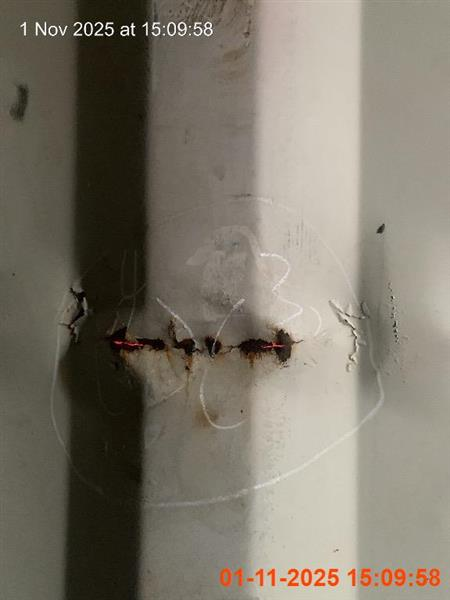crack: (136, 347, 260, 599)
